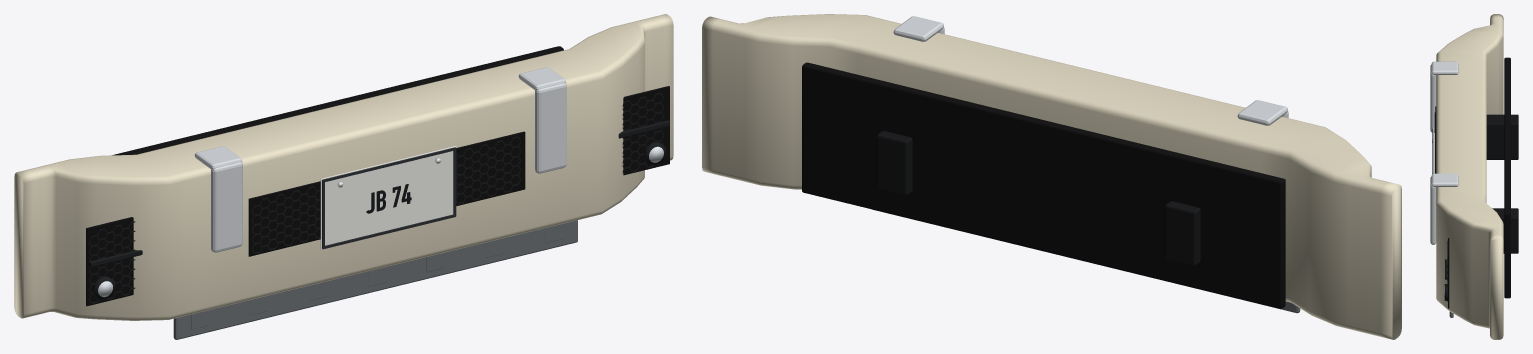
File: frontBumper_damd_little_g_adv.glb
3 renders of one model, left to right at view 1: azimuth 30°, elevation 25°; view 2: azimuth 150°, elevation 25°; view 3: azimuth 270°, elevation 25°, orthographic. The views are drawn at different scales.
Parts seen in each view (by area): view 1: body.016, plate.022, skid.008, centreBay.001, rider1.001, rider-1.001, bay-1.001, valance.019, bay1.001, riderTop-1.001, riderTop1.001, plateNo22 (+2 smaller); view 2: body.016, valance.019, mount-1.019, mount1.019, riderTop-1.001, riderTop1.001; view 3: body.016, valance.019, mount-1.019, mount1.019, rider1.001, riderTop-1.001, riderTop1.001, rider-1.001, bay1.001, centreBay.001, plateRim22_0.
Boxes of the visible parts, left/top/right/bottom form: body.016: left=14, top=14, right=673, bottom=320; plate.022: left=320, top=146, right=456, bottom=249; skid.008: left=173, top=220, right=577, bottom=339; centreBay.001: left=248, top=131, right=525, bottom=256; rider1.001: left=535, top=83, right=566, bottom=173; rider-1.001: left=211, top=162, right=242, bottom=252; bay-1.001: left=86, top=217, right=133, bottom=306; valance.019: left=112, top=46, right=563, bottom=155; bay1.001: left=623, top=86, right=669, bottom=175; riderTop-1.001: left=194, top=146, right=242, bottom=169; riderTop1.001: left=518, top=67, right=566, bottom=90; plateNo22: left=366, top=184, right=411, bottom=213; body.016: left=702, top=14, right=1401, bottom=339; valance.019: left=802, top=62, right=1285, bottom=308; mount-1.019: left=1165, top=201, right=1200, bottom=265; mount1.019: left=877, top=131, right=912, bottom=195; riderTop-1.001: left=1237, top=100, right=1287, bottom=125; riderTop1.001: left=893, top=16, right=943, bottom=41; body.016: left=1436, top=14, right=1503, bottom=339; valance.019: left=1504, top=57, right=1510, bottom=298; mount-1.019: left=1486, top=114, right=1518, bottom=159; mount1.019: left=1492, top=208, right=1518, bottom=253; rider1.001: left=1430, top=176, right=1436, bottom=244; riderTop-1.001: left=1431, top=61, right=1458, bottom=74; riderTop1.001: left=1431, top=173, right=1458, bottom=186; rider-1.001: left=1430, top=64, right=1436, bottom=132; bay1.001: left=1448, top=238, right=1449, bottom=308; centreBay.001: left=1435, top=106, right=1436, bottom=173; plateRim22_0: left=1432, top=128, right=1433, bottom=173.
Bounding box in the file's own units: 1.58 × 0.415 × 0.263.
